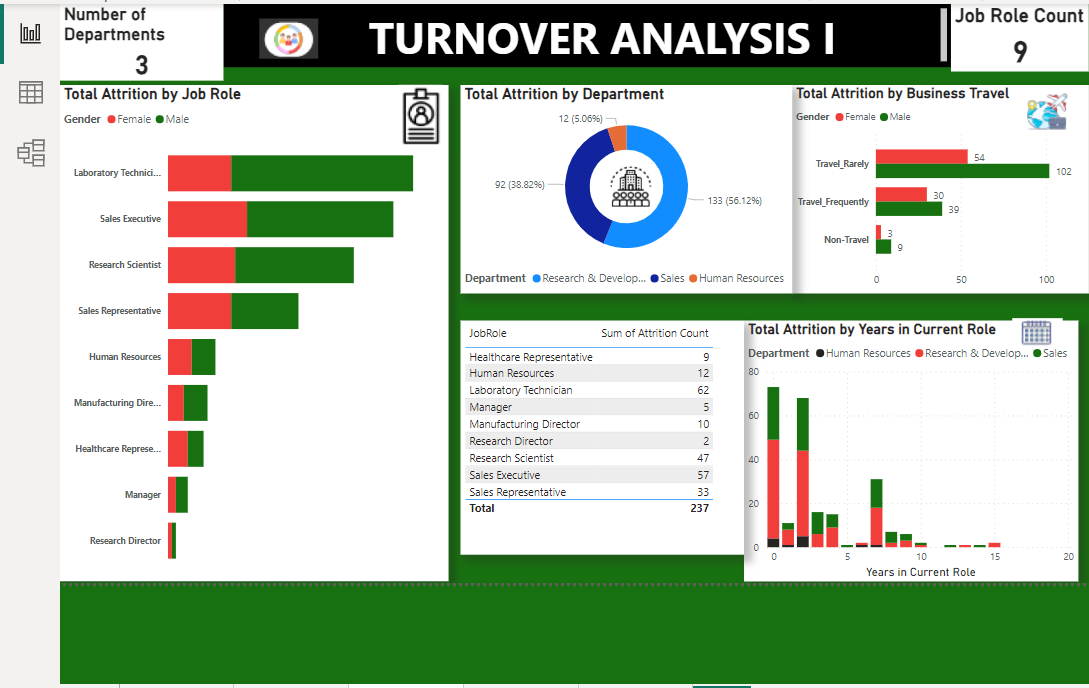

The dashboard page shown, as its layout file describes it:
{"tool":"powerbi","page":{"name":"Page 3","canvas":[1280,720],"ordinal":2},"visuals":[{"type":"textbox","box":[203.4,0,905,78.4],"z":0},{"type":"barChart","title":"Total Attrition by Job Role","fields":{"Series":["HR-Employee-Attrition.Gender"],"Category":["HR-Employee-Attrition.JobRole"],"Y":["Sum(HR-Employee-Attrition.Attrition Count)"]},"box":[0,100.8,483.3,617.6],"z":1000},{"type":"clusteredBarChart","title":"Total Attrition by Business Travel ","fields":{"Category":["HR-Employee-Attrition.BusinessTravel"],"Y":["Sum(HR-Employee-Attrition.Attrition Count)"],"Series":["HR-Employee-Attrition.Gender"]},"box":[910.6,100.8,369.4,259.4],"z":2000},{"type":"donutChart","title":"Total Attrition by Department","fields":{"Y":["Sum(HR-Employee-Attrition.Attrition Count)"],"Category":["HR-Employee-Attrition.Department"]},"box":[498.2,100.8,412.4,259.4],"z":3000},{"type":"columnChart","title":"Total Attrition by Years in Current Role","fields":{"Category":["HR-Employee-Attrition.YearsInCurrentRole"],"Y":["Sum(HR-Employee-Attrition.Attrition Count)"],"Series":["HR-Employee-Attrition.Department"]},"box":[850.8,393.7,416.1,324.7],"z":4000},{"type":"tableEx","fields":{"Values":["HR-Employee-Attrition.JobRole","Sum(HR-Employee-Attrition.Attrition Count)"]},"box":[498.2,393.7,352.7,291.1],"z":5000},{"type":"card","title":"Job Role Count","fields":{"Values":["Count(HR-Employee-Attrition.JobRole)"]},"box":[1108.3,0,171.7,84],"z":6000},{"type":"card","title":"Number of Departments","fields":{"Values":["Count(HR-Employee-Attrition.Department)"]},"box":[0,0,203.4,95.2],"z":7000},{"type":"image","box":[675.5,192.2,69,65.3],"z":7001},{"type":"image","box":[414.2,95.2,69,91.4],"z":7002},{"type":"image","box":[1179.2,378.8,72.8,61.6],"z":7003},{"type":"image","box":[1197.9,95.2,69,69],"z":7004},{"type":"image","box":[242.6,0,84,85.8],"z":7005}]}

Visuals, with their boxes in screenshot pixels (x1, y1, x2, y2):
textbox: (218, 0, 951, 63)
"Total Attrition by Job Role" barChart: (54, 82, 445, 581)
"Total Attrition by Business Travel " clusteredBarChart: (791, 82, 1088, 292)
"Total Attrition by Department" donutChart: (457, 82, 791, 292)
"Total Attrition by Years in Current Role" columnChart: (742, 319, 1079, 581)
tableEx - HR-Employee-Attrition.JobRole x Sum(HR-Employee-Attrition.Attrition Count): (457, 319, 742, 554)
"Job Role Count" card: (951, 0, 1088, 68)
"Number of Departments" card: (54, 0, 218, 77)
image: (601, 156, 656, 208)
image: (389, 77, 445, 151)
image: (1008, 307, 1067, 356)
image: (1023, 77, 1079, 133)
image: (250, 0, 318, 69)
